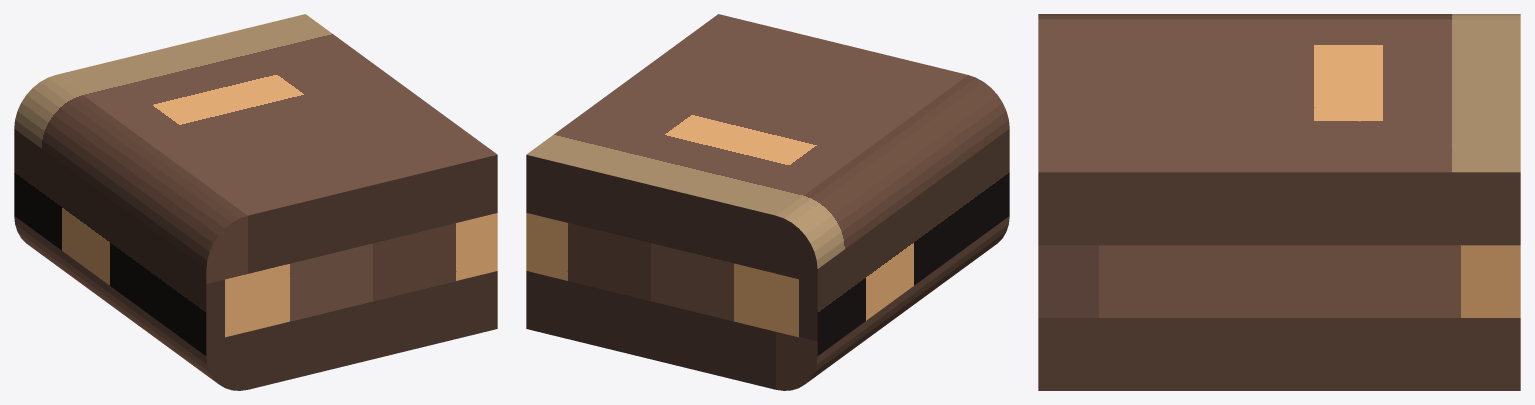
Rendered from book_642x28.obj.
3 renders of one model, left to right at view 1: azimuth 30°, elevation 25°; view 2: azimuth 150°, elevation 25°; view 3: azimuth 270°, elevation 25°, orthographic. The views are drawn at different scales.
Visible parts, largest first — view 1: Cube.001; view 2: Cube.001; view 3: Cube.001.
Part boxes in pixels (x1,y1,x2,y2): Cube.001: [14, 14, 497, 390]; Cube.001: [526, 14, 1009, 390]; Cube.001: [1038, 14, 1520, 390].
Size of the model in its own units: 0.875 by 0.5 by 1.
